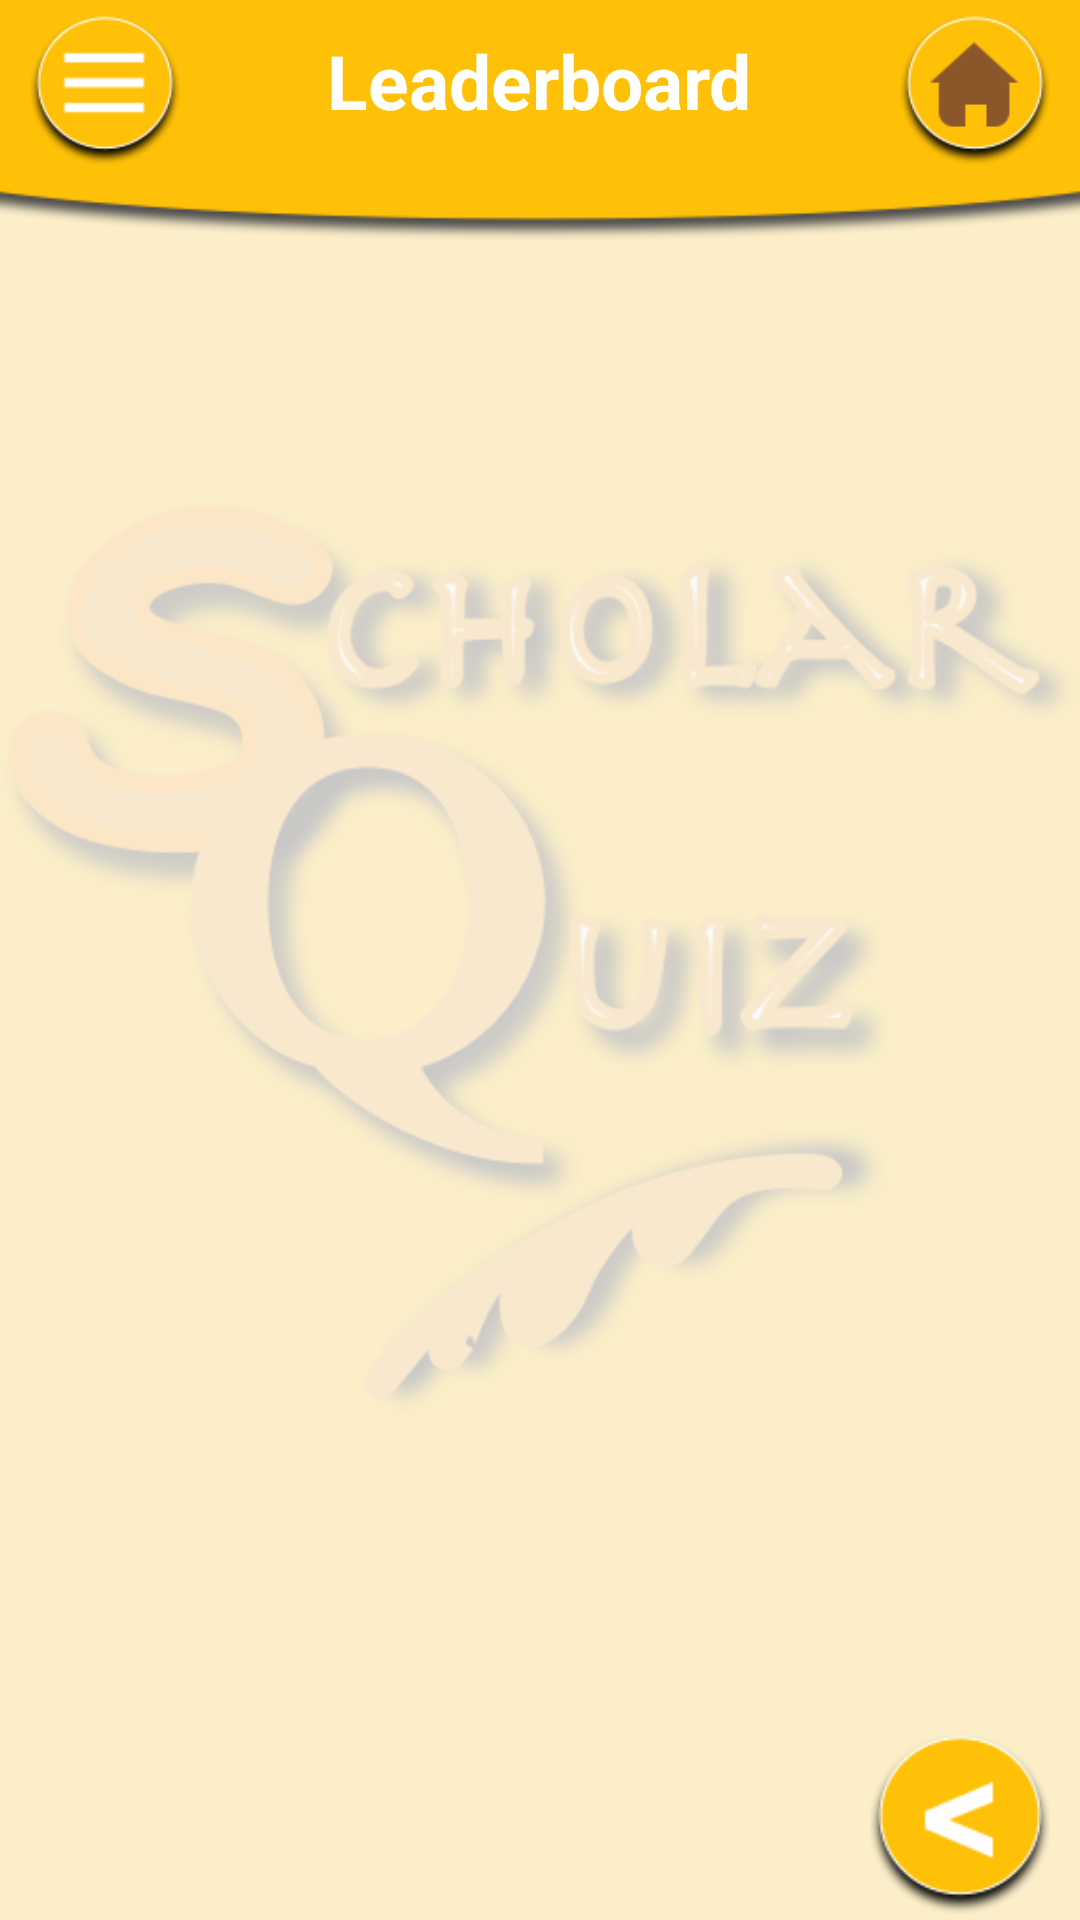

Where to tap for icons on this 1080w x 1920h app screen, as (x,y):
backbutton: (960,1824)
home brown: (975,89)
menubutton: (105,89)
